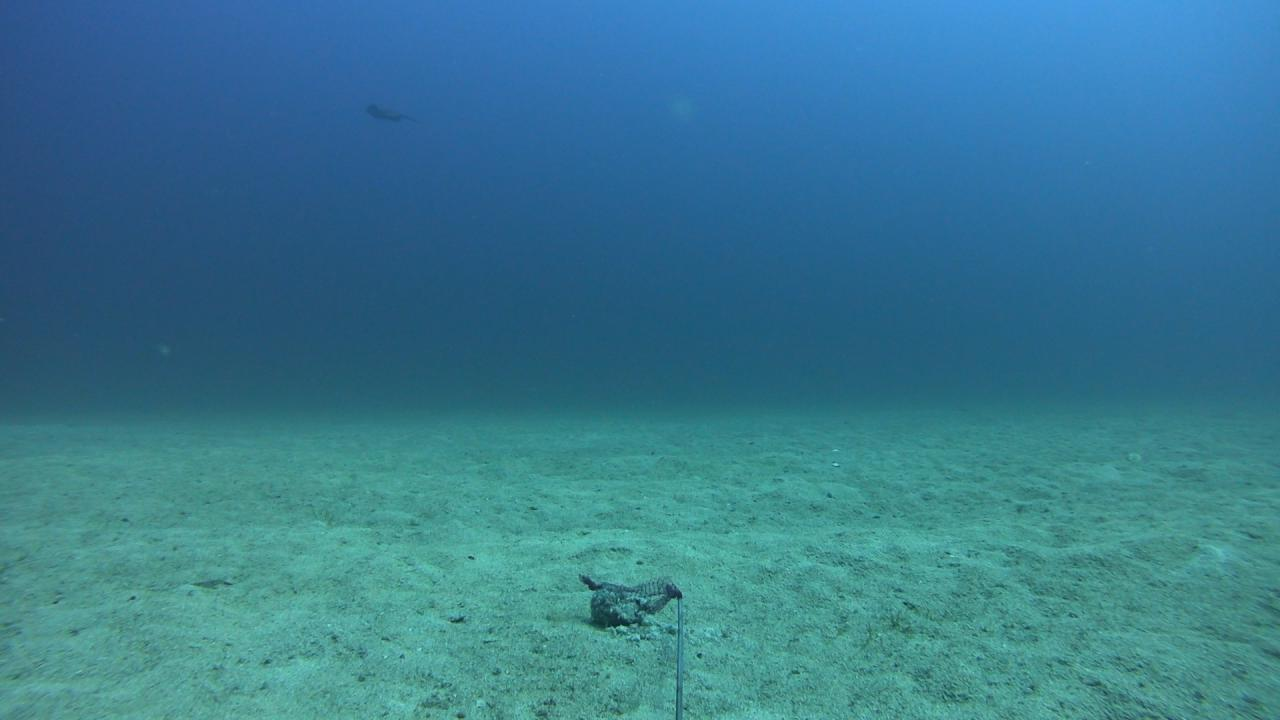dasyatis: (364, 100, 422, 124)
